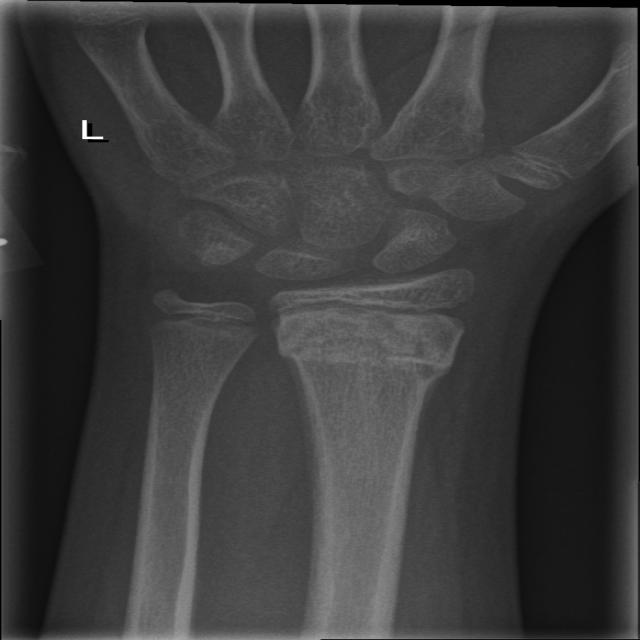radius fracture: (255, 313, 486, 442)
